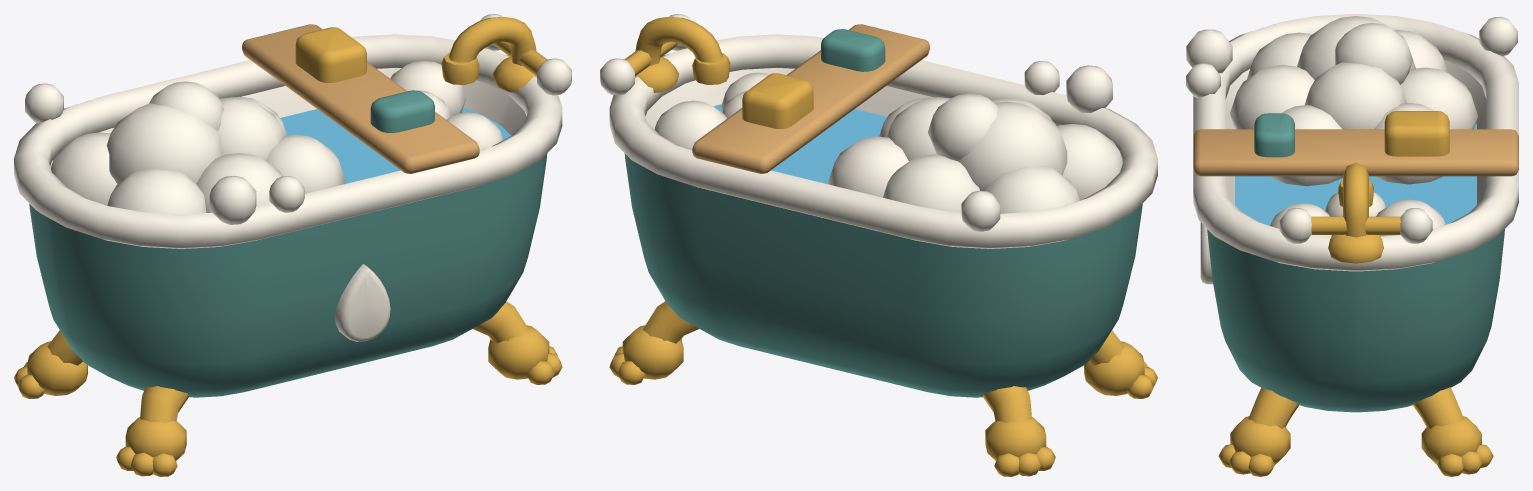
Rendered from ShopBathtub.fbx.
3 views of the same model, side by side, from view 1: azimuth 30°, elevation 25°; view 2: azimuth 150°, elevation 25°; view 3: azimuth 270°, elevation 25° (orthographic). The views are drawn at different scales.
Parts seen in each view (by area): view 1: ShopBathtub; view 2: ShopBathtub; view 3: ShopBathtub.
Part boxes in pixels (x1,y1,x2,y2): ShopBathtub: (14,14,571,476); ShopBathtub: (600,14,1157,476); ShopBathtub: (1186,14,1518,476).
Bounding box in the file's own units: 1.41 × 0.834 × 0.8178.
